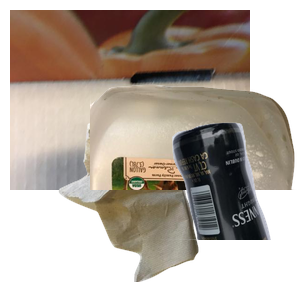cardboard: (10, 10, 250, 190)
glass: (106, 120, 300, 300)
plastic: (90, 82, 300, 262)
trash: (56, 120, 247, 300)
